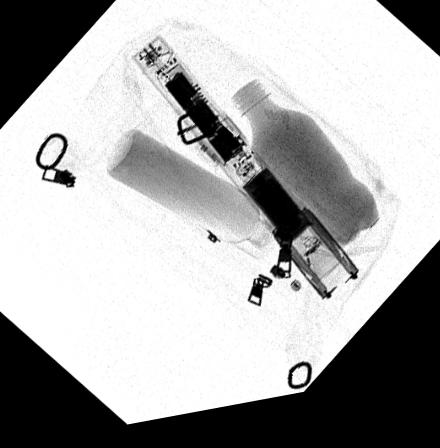Baton: (130, 41, 361, 316)
